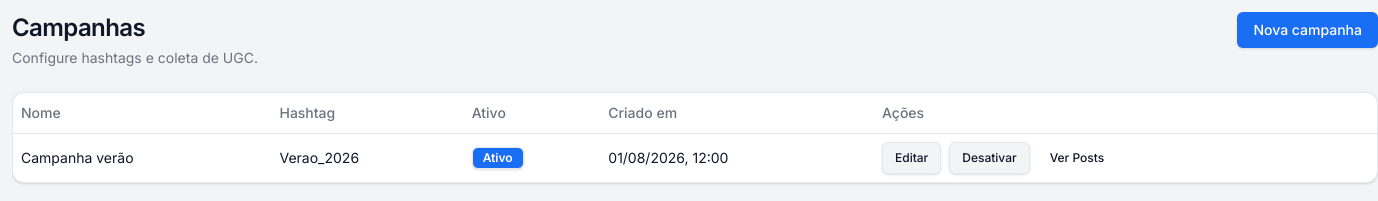
Test: CampaignsList › toggles a campaign inactive via PATCH and updates the badge
Click the button "Desativar": (990, 158) [949,142,1030,174]
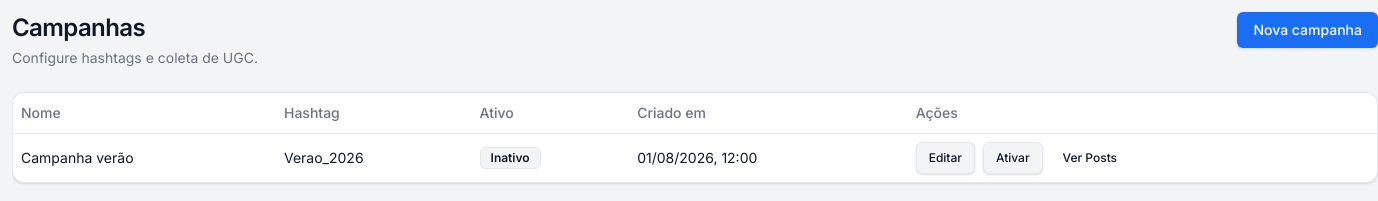
Check: the button "Ativar" is shown, box [983,142,1042,174]
Check: the text "Inativo" is shown, box [480,146,541,168]
